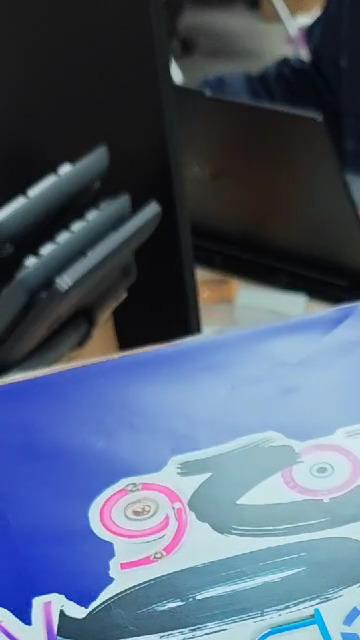B_R1: (4, 361, 360, 640)
